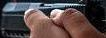gun: (1, 1, 106, 38)
